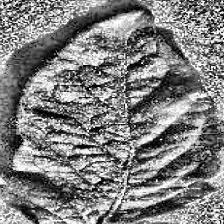Blossom Blight: (71, 141, 119, 180), (144, 168, 193, 202), (22, 148, 68, 176), (122, 56, 167, 84), (51, 79, 92, 109), (50, 204, 90, 224)
